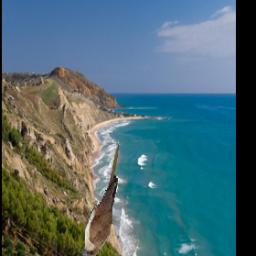Cuckoo: (80, 140, 119, 256)
